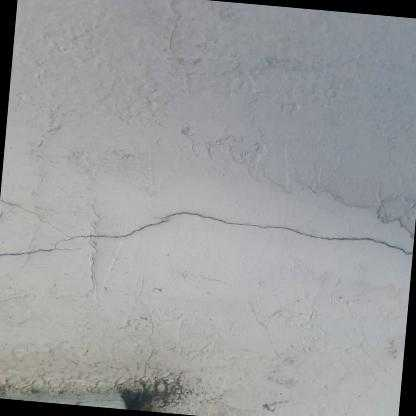crack: (0, 211, 413, 257)
